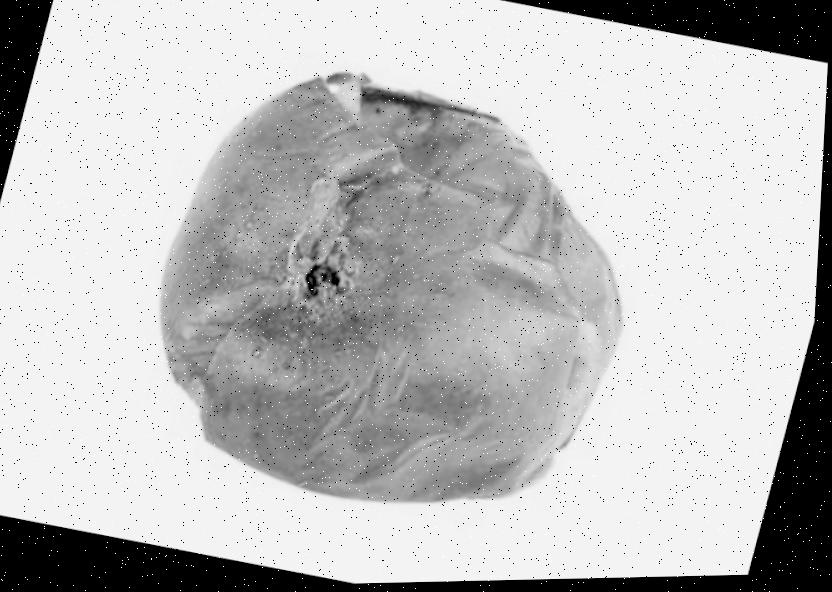ROT: (37, 8, 711, 580)
